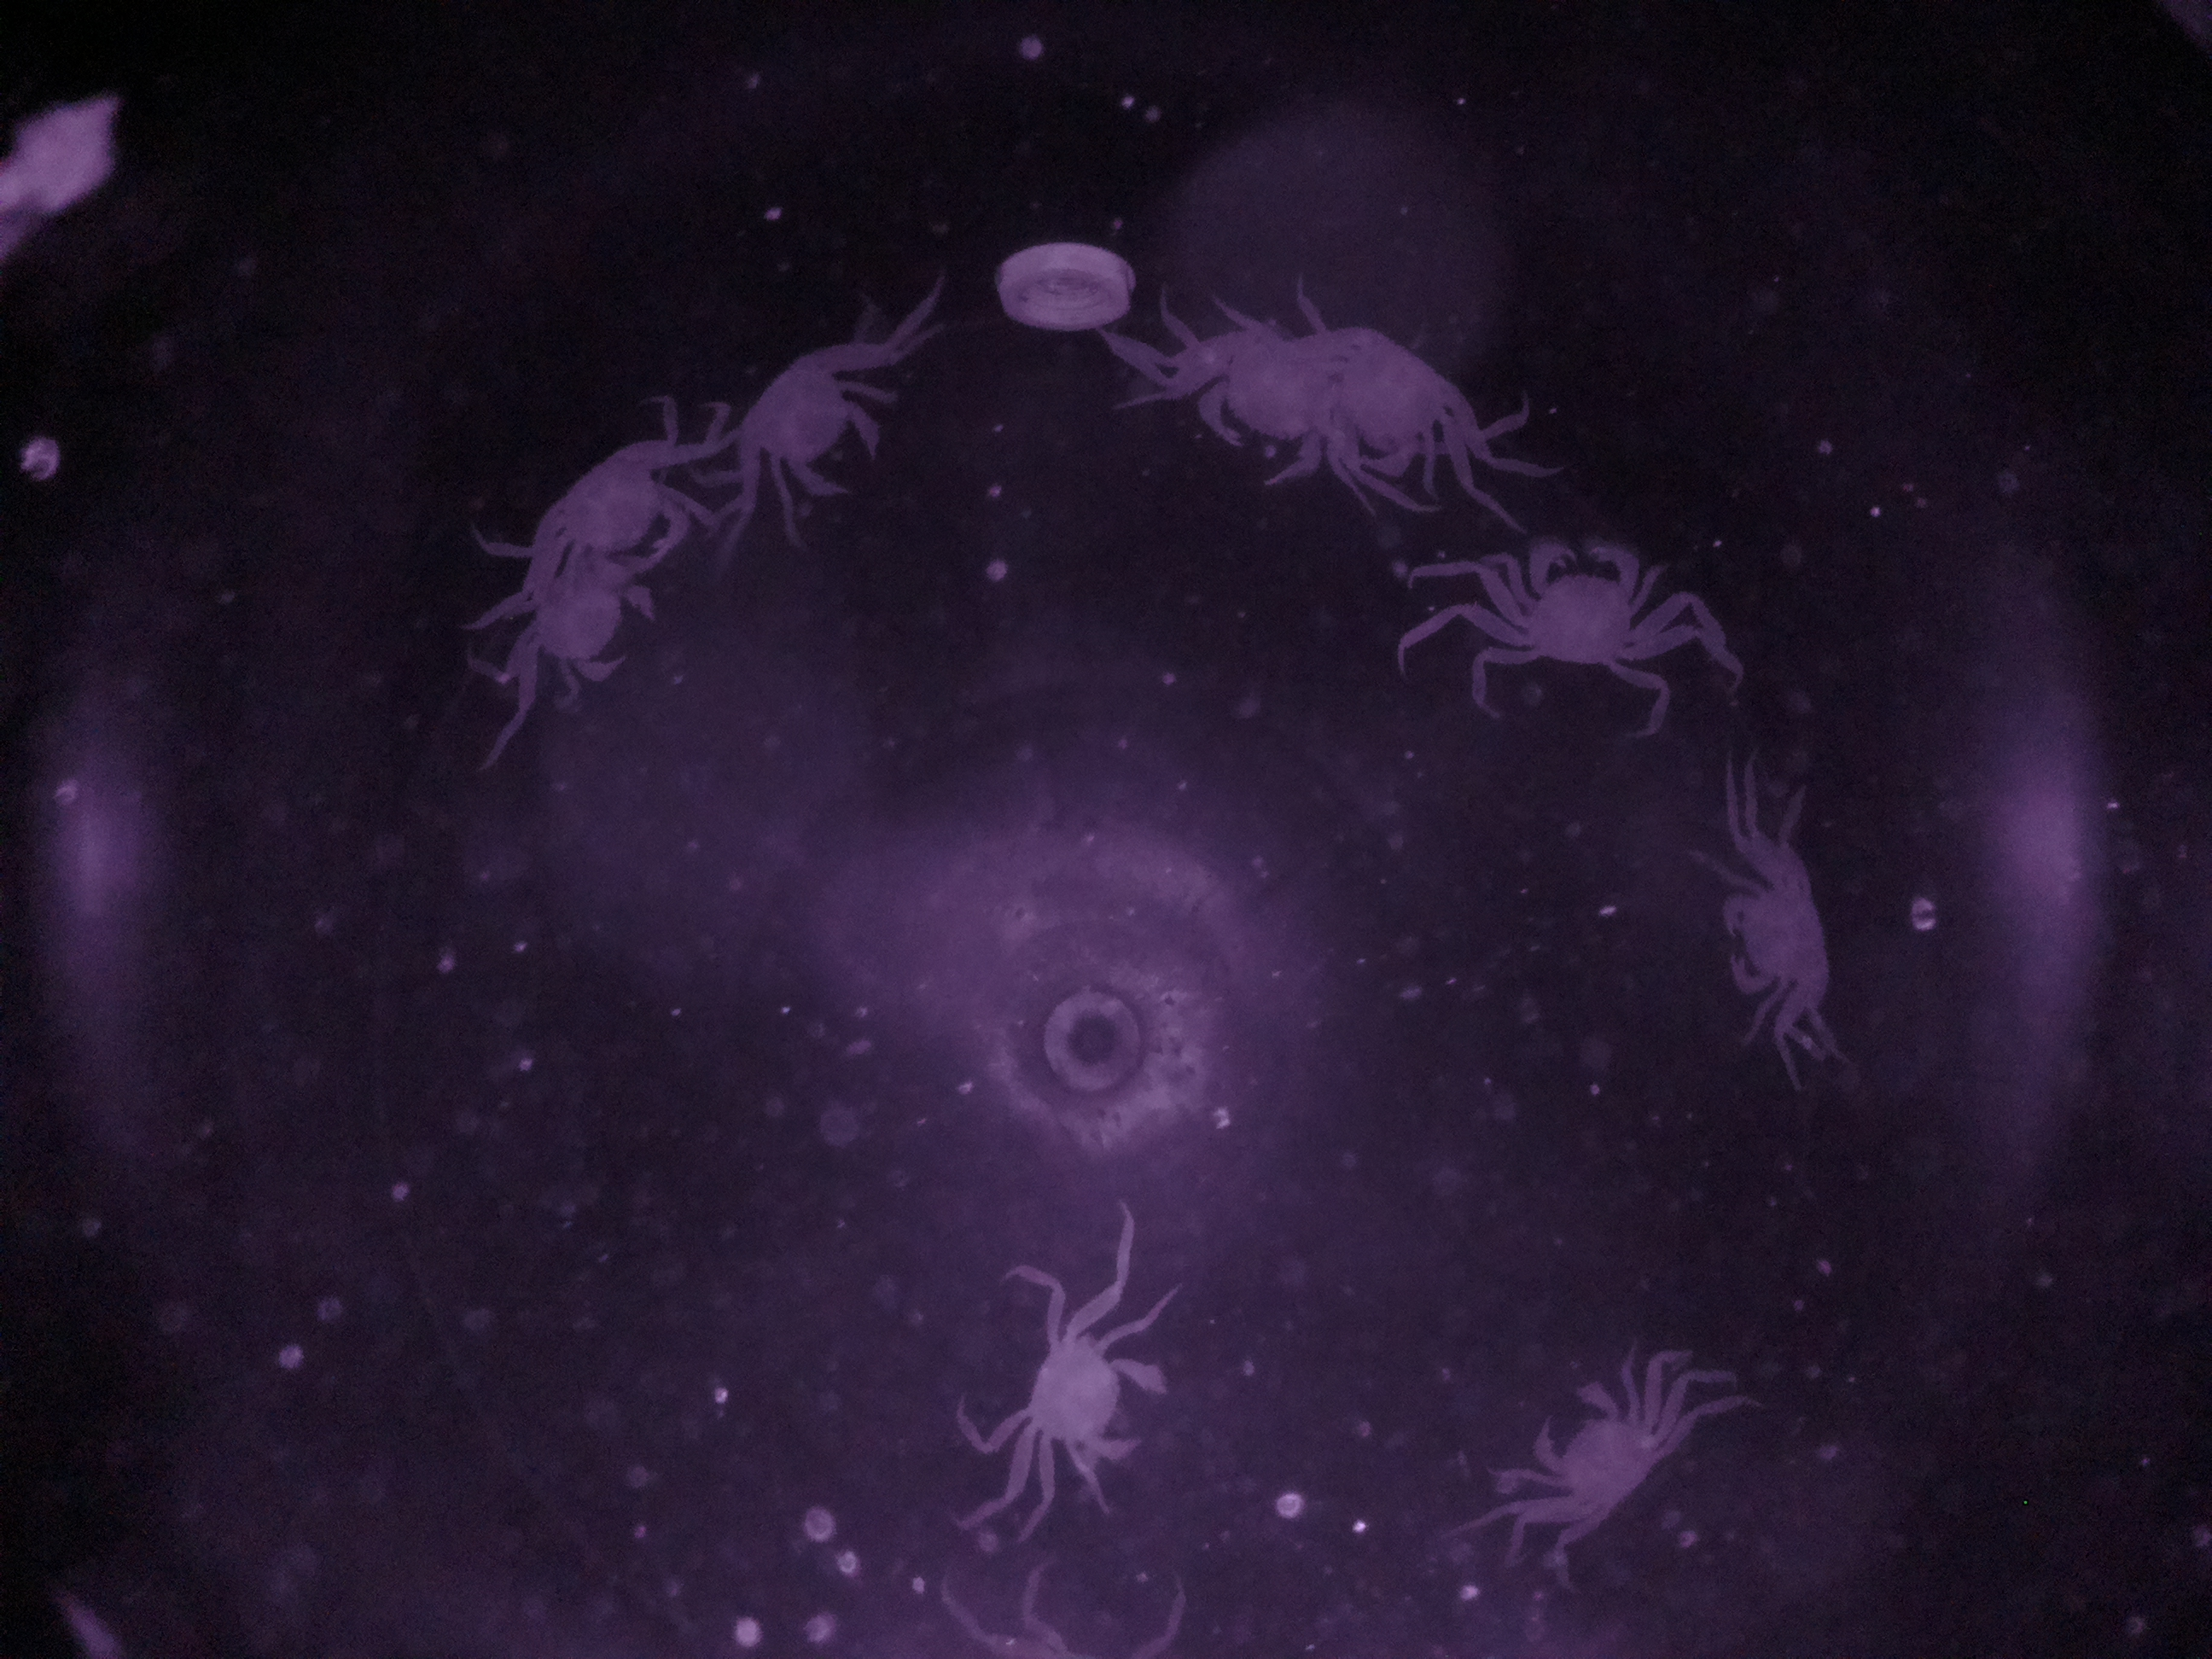Crab: (993, 1283, 1188, 1488), (1470, 502, 1669, 697), (723, 331, 899, 533), (1703, 826, 1855, 1054), (1503, 1356, 1670, 1542)
